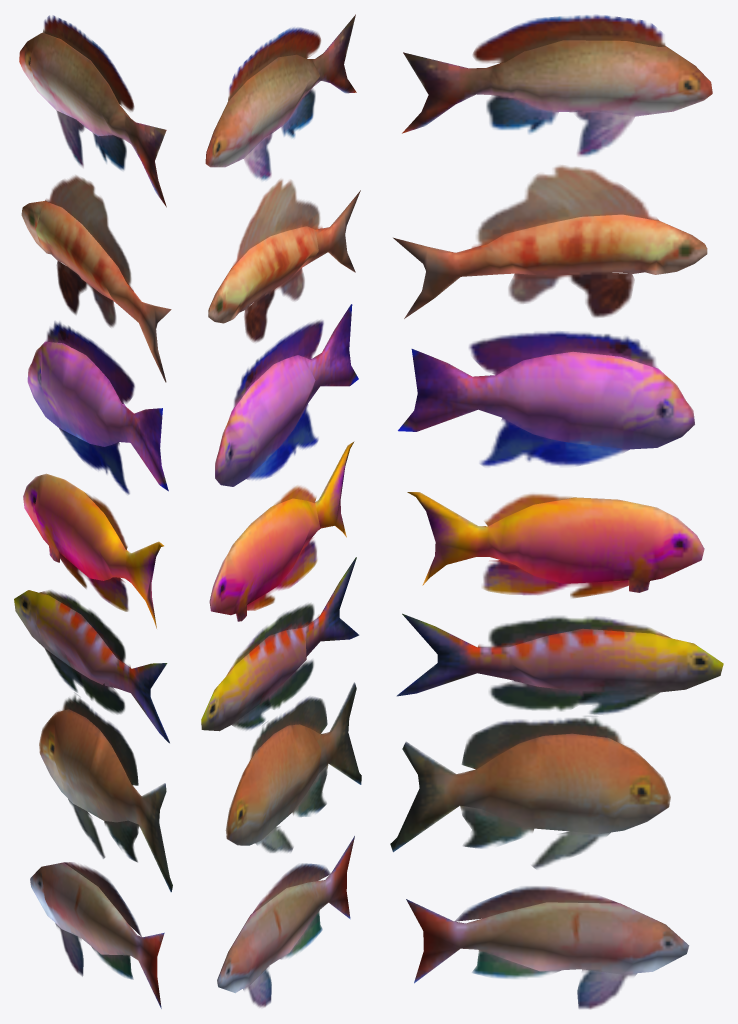
File: fishlings.glb
3 renders of one model, left to right at view 1: azimuth 30°, elevation 25°; view 2: azimuth 150°, elevation 25°; view 3: azimuth 270°, elevation 25°, orthographic. The views are drawn at different scales.
Parts seen in each view (by area): view 1: fish_007, fish_004, fish_009, fish_008, fish_006, fish_005, fish_003; view 2: fish_007, fish_004, fish_009, fish_008, fish_006, fish_005, fish_003; view 3: fish_007, fish_004, fish_009, fish_008, fish_006, fish_005, fish_003.
Boxes of the visible parts, box(x1,y1,x2,y2) form: fish_007: box(27, 321, 168, 494); fish_004: box(39, 692, 172, 892); fish_009: box(19, 15, 166, 207); fish_008: box(21, 175, 171, 382); fish_006: box(23, 473, 163, 628); fish_005: box(14, 590, 169, 743); fish_003: box(30, 862, 164, 1008); fish_007: box(215, 304, 358, 486); fish_004: box(226, 682, 361, 852); fish_009: box(205, 14, 356, 180); fish_008: box(208, 179, 360, 342); fish_006: box(209, 441, 354, 621); fish_005: box(201, 557, 359, 731); fish_003: box(217, 836, 354, 1007); fish_007: box(398, 331, 694, 466); fish_004: box(390, 716, 670, 869); fish_009: box(402, 15, 712, 156); fish_008: box(393, 165, 707, 318); fish_006: box(407, 492, 704, 597); fish_005: box(396, 613, 723, 714); fish_003: box(406, 886, 689, 1009).
Size of the model in its own units: 0.2037 by 6.3 by 1.91.
Materials: 1 (1 with a texture image).
